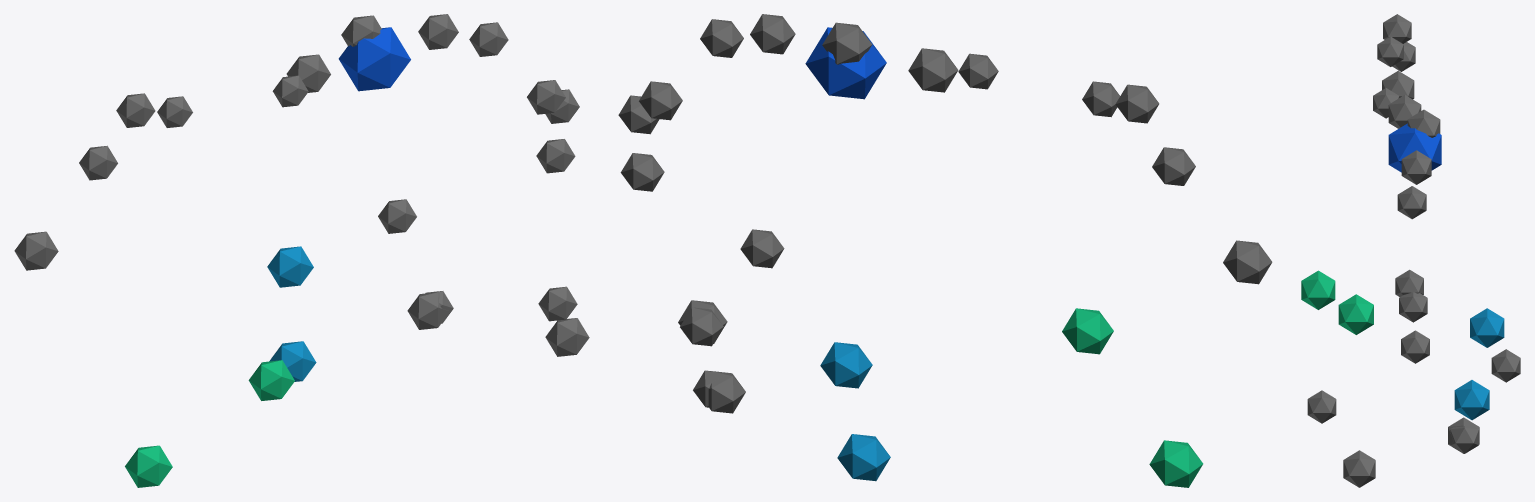
3 renders of one model, left to right at view 1: azimuth 30°, elevation 25°; view 2: azimuth 150°, elevation 25°; view 3: azimuth 270°, elevation 25°, orthographic. The views are drawn at different scales.
Parts seen in each view (by area): view 1: 00_01_07; view 2: 00_01_07; view 3: 00_01_07.
Boxes of the visible parts, x1=… form: 00_01_07: x1=14, y1=14, x2=589, y2=487; 00_01_07: x1=618, y1=14, x2=1272, y2=487; 00_01_07: x1=1301, y1=14, x2=1520, y2=487.
Bounding box in the file's own units: 0.6522 × 0.4166 × 0.2558.
